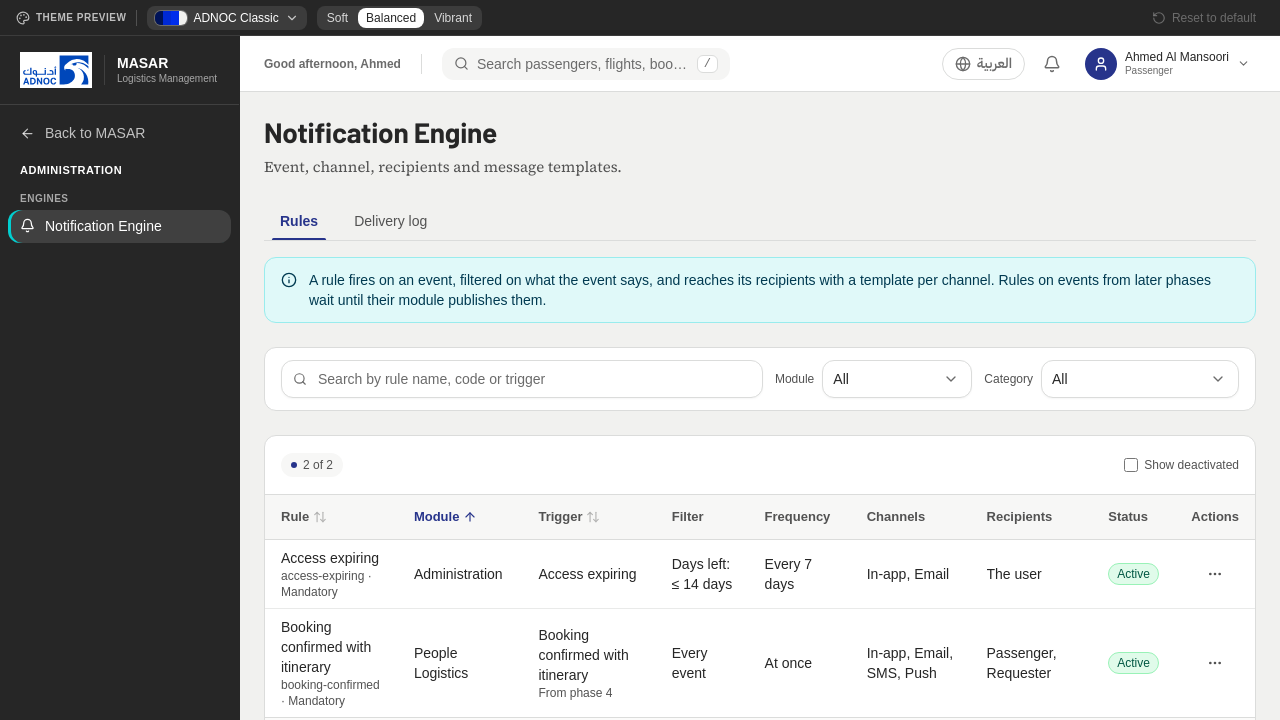
BRD-D.2.2.3-MST the Notification Engine page (spec 10 §3.3) › PROMPT-2.7 a viewer sees rules and deliveries without New, edit or Retry
Expected: the text "Every 7 days" is shown, [749,540,851,608]
Click the tab "Delivery log" at (391, 221), box [338,202,443,240]
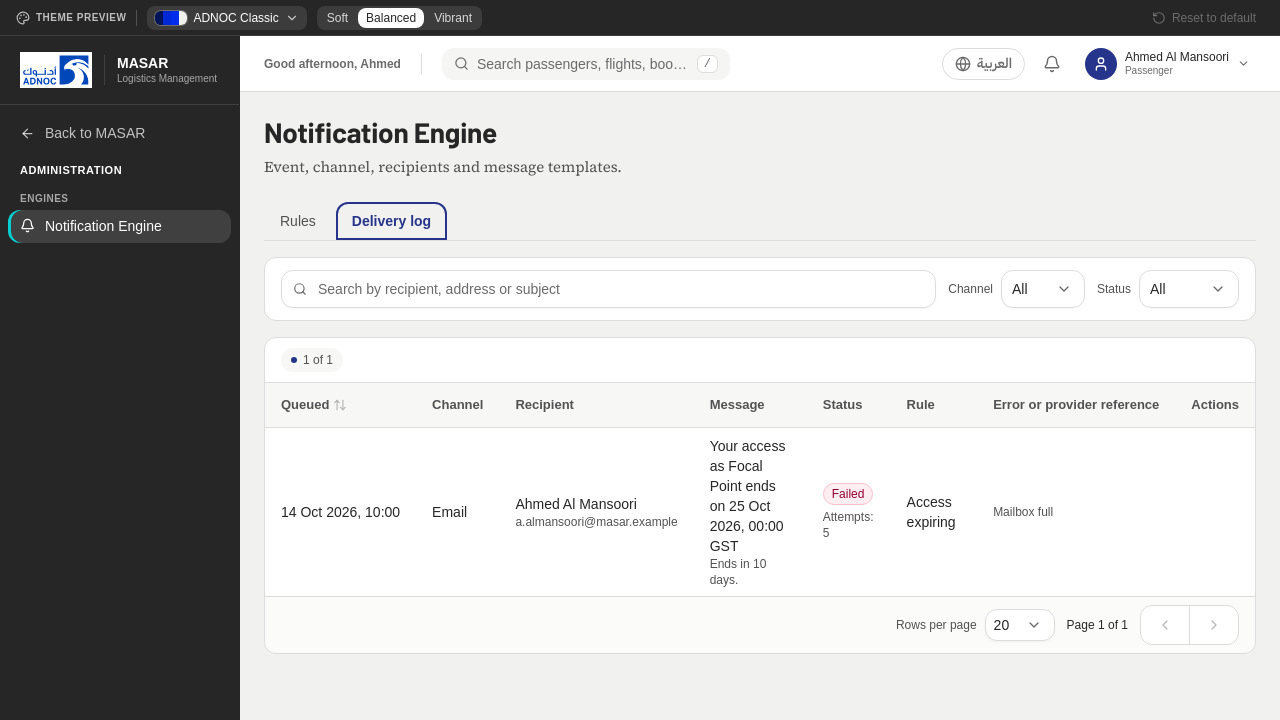
Result: the text "Mailbox full" is shown at [993,505,1053,519]
